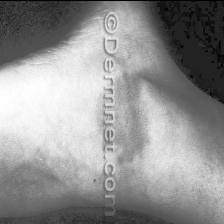Unclassified: (119, 78, 163, 176), (86, 88, 100, 149)
